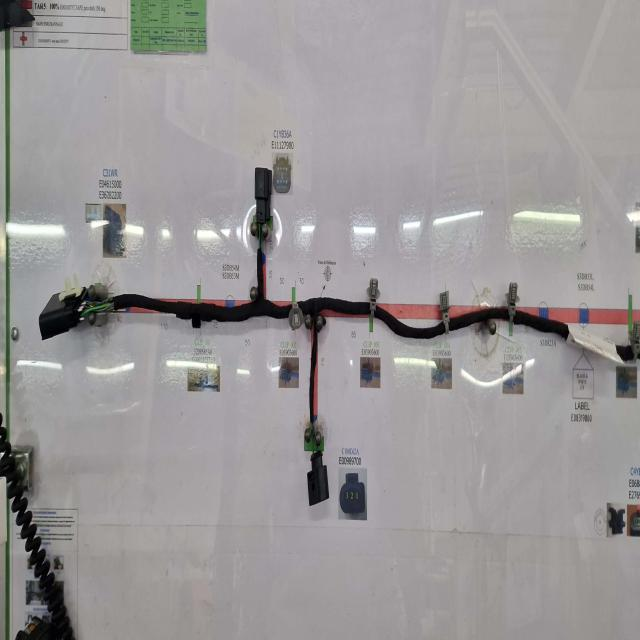Clip: (288, 287, 301, 331), (506, 280, 518, 316), (440, 290, 450, 333), (367, 285, 380, 312), (194, 308, 202, 325)
Connector: (39, 296, 79, 340), (307, 450, 328, 504), (255, 164, 272, 219)
Gape: (84, 291, 120, 319), (308, 417, 323, 450), (258, 217, 269, 249)
Info: (567, 322, 622, 364)
MHEV_N11_Cable: (40, 252, 368, 421), (377, 301, 639, 361)
